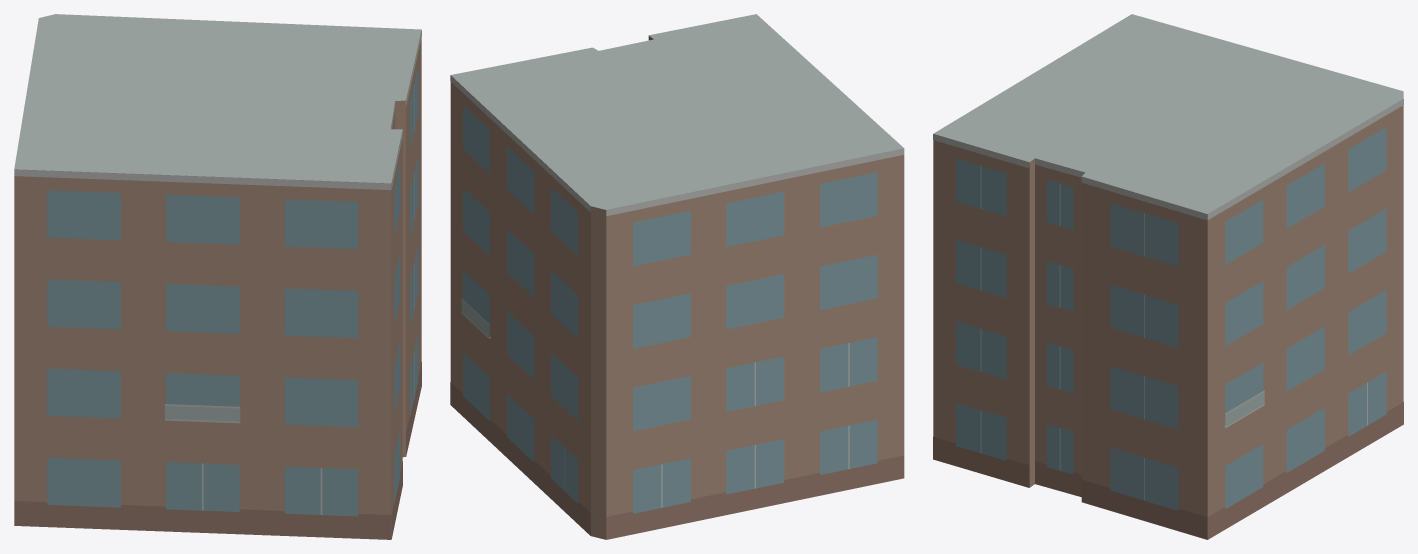
File: survey-upis-32779241.glb
3 renders of one model, left to right at view 1: azimuth 30°, elevation 25°; view 2: azimuth 150°, elevation 25°; view 3: azimuth 270°, elevation 25°, orthographic. The views are drawn at different scales.
Visible parts, largest first — view 1: survey-upis-32779241.tmp; view 2: survey-upis-32779241.tmp; view 3: survey-upis-32779241.tmp.
Boxes of the visible parts, x1=… form: survey-upis-32779241.tmp: x1=14, y1=14, x2=421, y2=539; survey-upis-32779241.tmp: x1=450, y1=14, x2=904, y2=539; survey-upis-32779241.tmp: x1=933, y1=14, x2=1403, y2=539.
Bounding box in the file's own units: 16.88 × 12.8 × 16.77.
